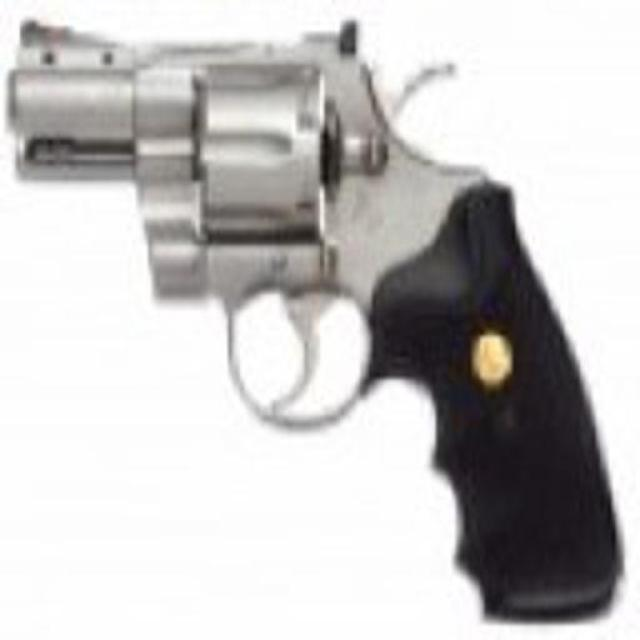pistol: (11, 15, 623, 624)
